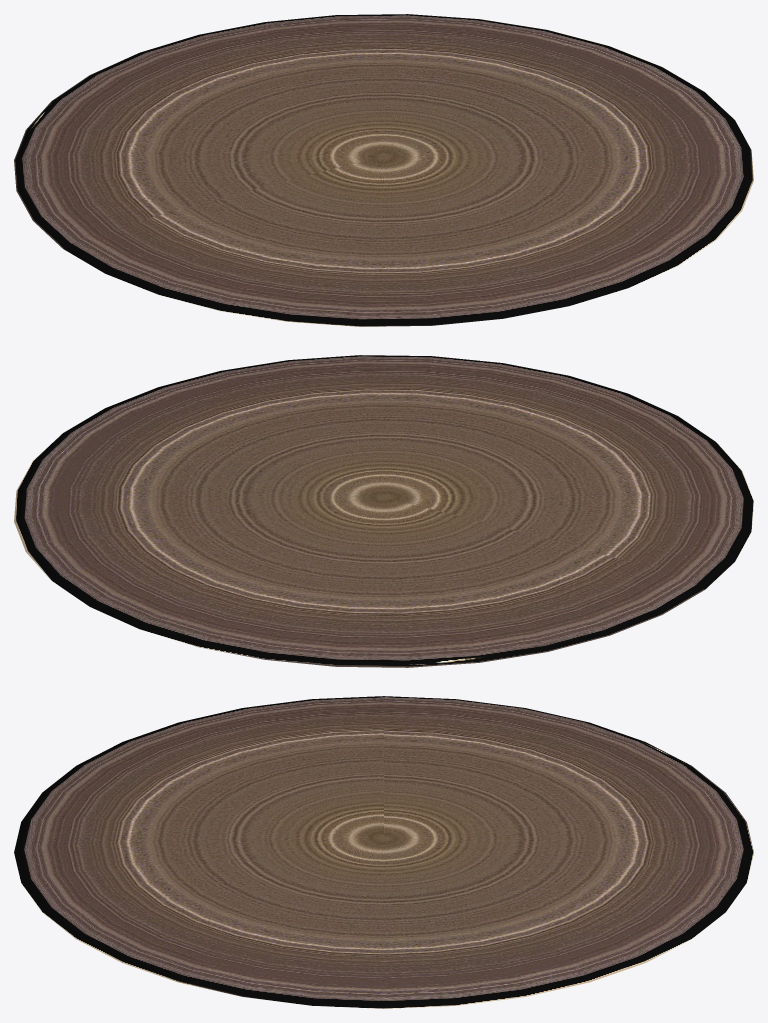
The model's file is ring_sphere.obj.
3 renders of one model, top to bottom at view 1: azimuth 30°, elevation 25°; view 2: azimuth 150°, elevation 25°; view 3: azimuth 270°, elevation 25°, orthographic.
Visible parts, largest first — view 1: Circle; view 2: Circle; view 3: Circle.
Part boxes in pixels (<box>): Circle: <box>14,14,753,326</box>; Circle: <box>14,355,753,667</box>; Circle: <box>14,696,753,1008</box>.
Bounding box in the file's own units: 2.38 × 0.1 × 2.38.
Materials: 1 (1 with a texture image).
